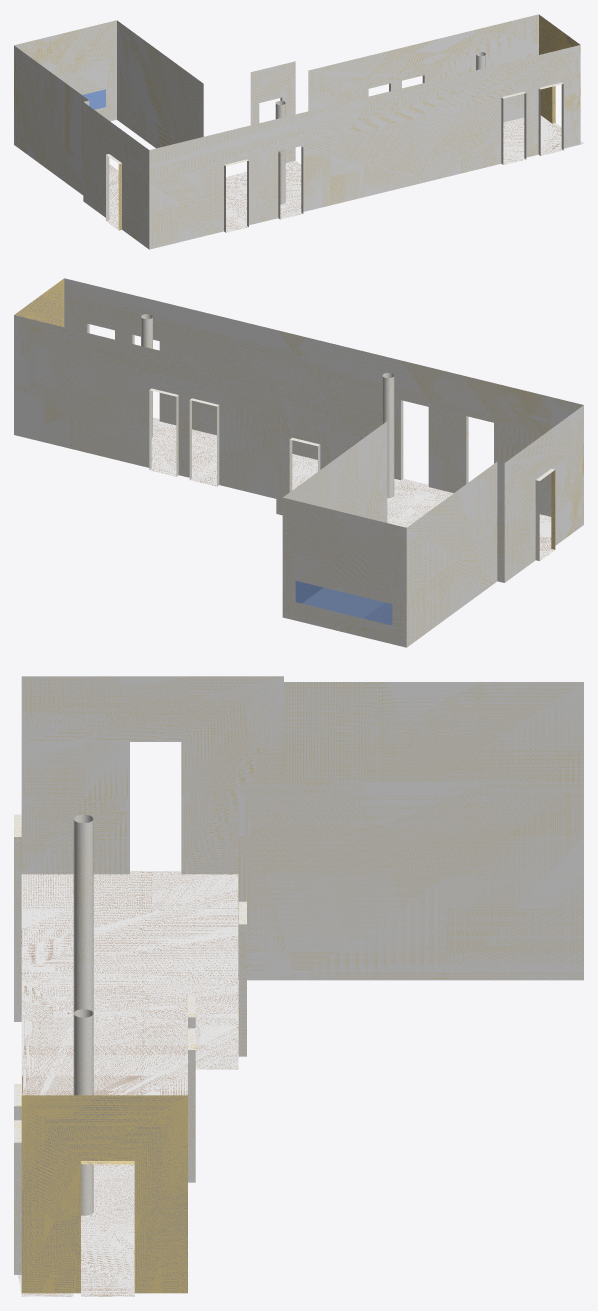
File: COM017.obj
The picture shows the model from 3 angles, top to bottom: view 1: azimuth 30°, elevation 25°; view 2: azimuth 150°, elevation 25°; view 3: azimuth 270°, elevation 25°; orthographic projection. The views are drawn at different scales.
Visible parts, largest first — view 1: Mesh1 COM017 Model; view 2: Mesh1 COM017 Model; view 3: Mesh1 COM017 Model.
Part boxes in pixels (x1,y1,x2,y2): Mesh1 COM017 Model: (14, 14, 583, 249); Mesh1 COM017 Model: (14, 278, 583, 647); Mesh1 COM017 Model: (14, 676, 583, 1296).
Size of the model in its own units: 13.8 by 3 by 7.81.
Materials: 5 (1 with a texture image).
